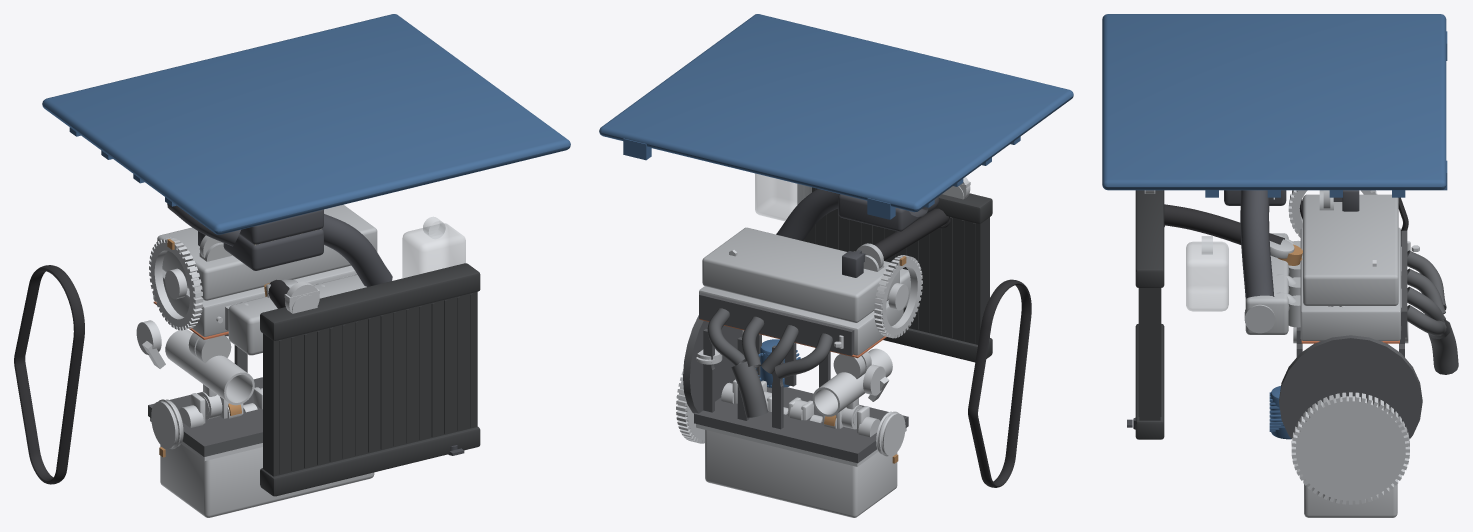
Rendered from motor-inline4.glb.
3 views of the same model, side by side, from view 1: azimuth 30°, elevation 25°; view 2: azimuth 150°, elevation 25°; view 3: azimuth 270°, elevation 25° (orthographic). The views are drawn at different scales.
Parts seen in each view (by area): view 1: kaput, radyator, hava_filtre_kutusu, karter, supap_kapagi, triger_kayisi, blok, kam_kasnagi, silindir_1, genlesme_deposu, emme_manifoldu, silindir_kapagi (+5 smaller); view 2: kaput, radyator, supap_kapagi, karter, blok, egzoz_manifoldu, triger_kayisi, hava_filtre_kutusu, kam_kasnagi, silindir_kapagi, silindir_1, krank_mili (+6 smaller); view 3: kaput, volan, supap_kapagi, blok, radyator, silindir_kapagi, egzoz_manifoldu, hava_filtre_kutusu, genlesme_deposu, emme_manifoldu, karter, ust_hortum (+2 smaller).
Boxes of the visible parts, x1=… form: kaput: x1=42, y1=14, x2=570, y2=234; radyator: x1=260, y1=263, x2=480, y2=496; hava_filtre_kutusu: x1=167, y1=203, x2=392, y2=286; karter: x1=150, y1=417, x2=374, y2=517; supap_kapagi: x1=157, y1=204, x2=377, y2=300; triger_kayisi: x1=14, y1=265, x2=84, y2=484; blok: x1=148, y1=345, x2=262, y2=456; kam_kasnagi: x1=149, y1=237, x2=203, y2=330; silindir_1: x1=165, y1=329, x2=254, y2=405; genlesme_deposu: x1=402, y1=216, x2=465, y2=278; emme_manifoldu: x1=228, y1=274, x2=366, y2=355; silindir_kapagi: x1=153, y1=265, x2=356, y2=336; kaput: x1=599, y1=14, x2=1073, y2=219; radyator: x1=797, y1=184, x2=992, y2=362; supap_kapagi: x1=702, y1=227, x2=899, y2=322; karter: x1=696, y1=424, x2=906, y2=517; blok: x1=683, y1=315, x2=908, y2=463; egzoz_manifoldu: x1=699, y1=293, x2=854, y2=417; triger_kayisi: x1=968, y1=279, x2=1031, y2=487; hava_filtre_kutusu: x1=776, y1=189, x2=939, y2=240; kam_kasnagi: x1=874, y1=255, x2=922, y2=338; silindir_kapagi: x1=699, y1=286, x2=903, y2=355; silindir_1: x1=812, y1=348, x2=892, y2=416; krank_mili: x1=721, y1=379, x2=880, y2=437; kaput: x1=1102, y1=14, x2=1447, y2=197; volan: x1=1291, y1=392, x2=1409, y2=504; supap_kapagi: x1=1303, y1=190, x2=1398, y2=305; blok: x1=1279, y1=308, x2=1422, y2=438; radyator: x1=1135, y1=190, x2=1164, y2=439; silindir_kapagi: x1=1288, y1=227, x2=1400, y2=340; egzoz_manifoldu: x1=1401, y1=230, x2=1458, y2=374; hava_filtre_kutusu: x1=1224, y1=190, x2=1286, y2=298; genlesme_deposu: x1=1186, y1=236, x2=1228, y2=311; emme_manifoldu: x1=1244, y1=233, x2=1296, y2=334; karter: x1=1304, y1=484, x2=1397, y2=517; ust_hortum: x1=1164, y1=204, x2=1284, y2=244.
Size of the model in its own units: 0.9502 by 0.902 by 0.7459.
